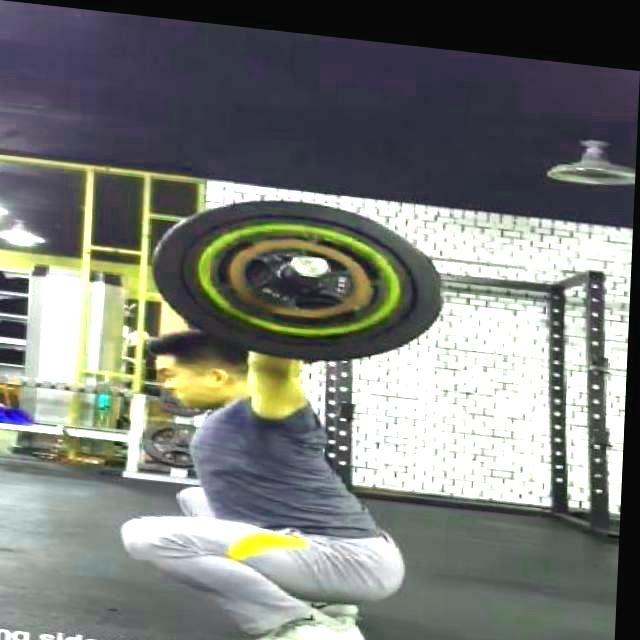barbell: (150, 177, 452, 372)
